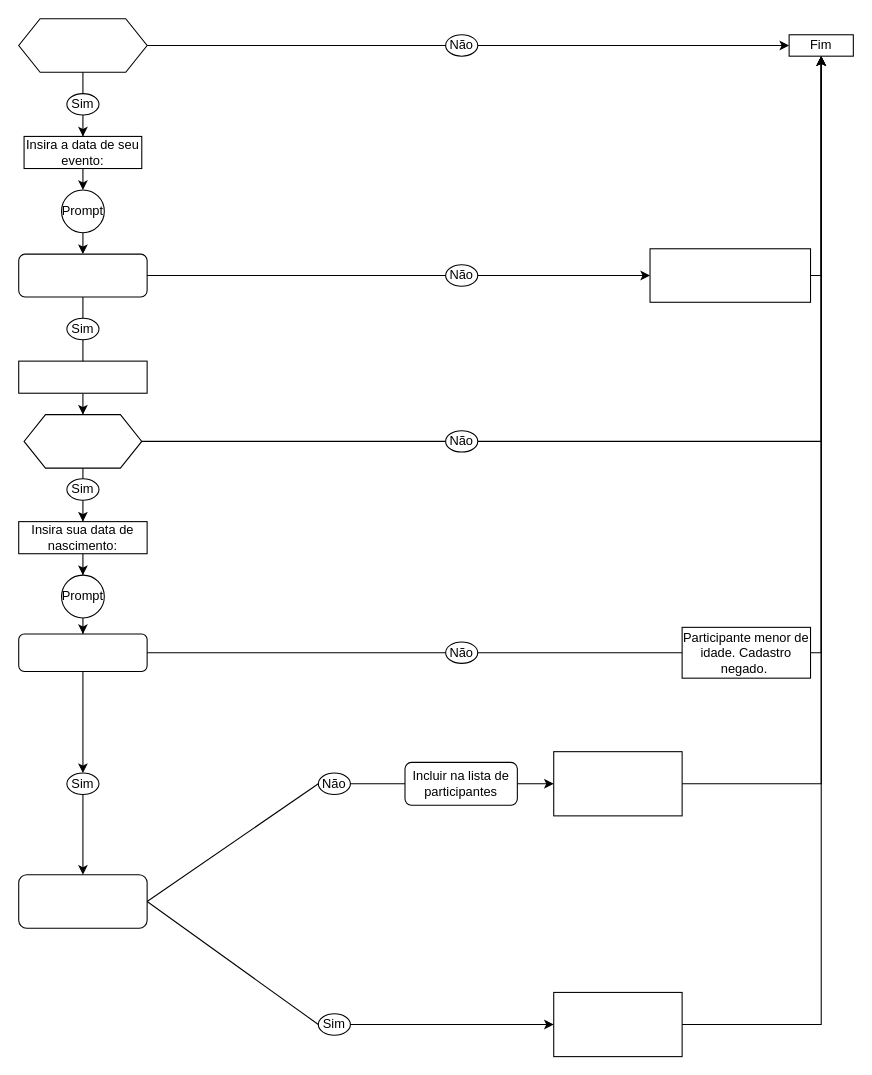
Image size: 872x1075. Some labels were removed from this diagram. Each missing label, with the centre of its shape:
"A data inserida é posterior à data atual?" goes at (x=82, y=275).
"A lista atingiu a marca de 100 participantes?" goes at (x=82, y=901).
"Data Inválida. Não pudemos cadastrar o seu evento." goes at (x=730, y=275).
"Evento criado com sucesso" goes at (x=82, y=376).
"Gostaria de criar um evento? (Início)" goes at (x=82, y=45).
"Gostaria de participar do evento criado?" goes at (x=82, y=441).
"Limite de participantes atingido. Impossível realizar seu cadastro." goes at (x=617, y=1024).
"O participante tem mais de 18 anos?" goes at (x=82, y=652).
"Participante cadastrado!" goes at (x=617, y=783).
